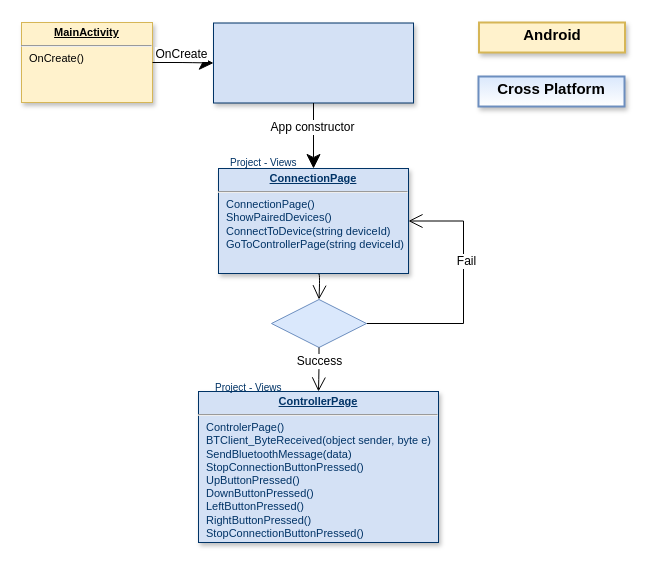
Image size: 649x567. Some labels were removed from this diagram. The shapes that lost their labels are listed below. From the top down, each one's centre as x and y in pixels, then its label:
point (314, 64): App App(IBluetoothClient bluetoothClient)
point (318, 323): ConnectToDevice
